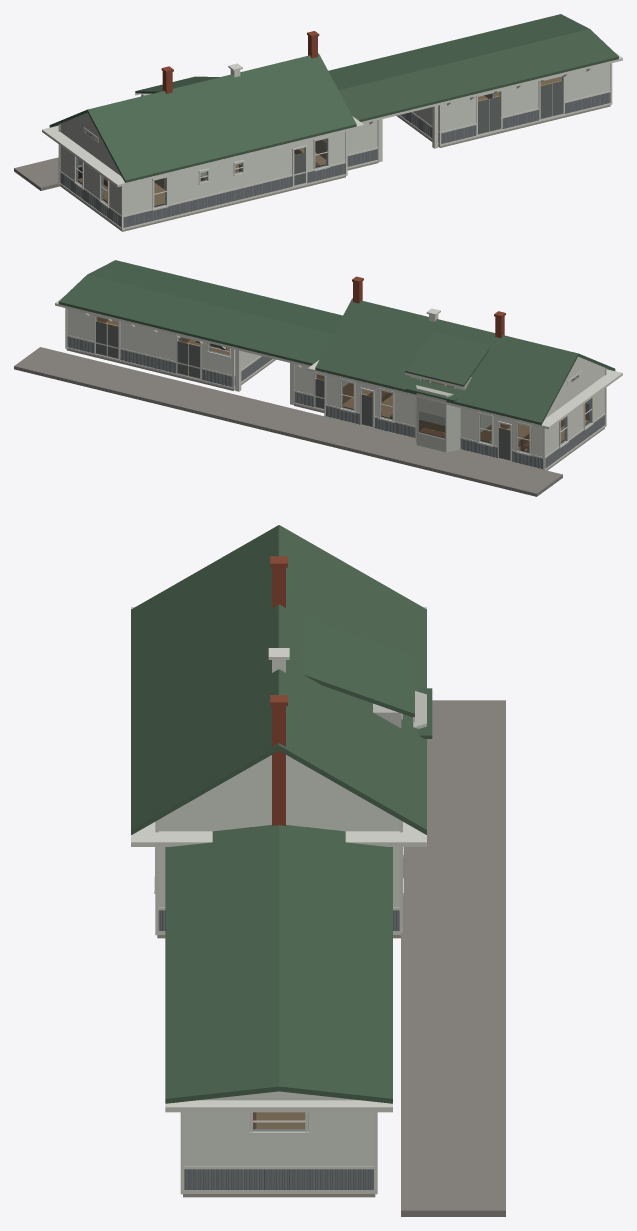
Rendered from Sparta_Depot.glb.
3 views of the same model, one above another, from view 1: azimuth 30°, elevation 25°; view 2: azimuth 150°, elevation 25°; view 3: azimuth 270°, elevation 25° (orthographic). The views are drawn at different scales.
Parts seen in each view (by area): view 1: roof, walls, trim, wainscot, doors, glass, foundation, sash, platform, floor, chimney, v_ceiling; view 2: roof, platform, walls, trim, wainscot, glass, doors, sash, v_ceiling, floor, foundation, chimney (+2 smaller); view 3: roof, platform, walls, trim, wainscot, chimney, glass.
Boxes of the visible parts, bbox=[...] form: roof: bbox=[49, 14, 618, 182]; walls: bbox=[60, 63, 610, 215]; trim: bbox=[42, 15, 622, 230]; wainscot: bbox=[60, 92, 610, 227]; doors: bbox=[87, 81, 563, 185]; glass: bbox=[76, 76, 562, 207]; foundation: bbox=[60, 105, 610, 231]; sash: bbox=[74, 135, 329, 210]; platform: bbox=[14, 157, 81, 190]; floor: bbox=[78, 76, 561, 205]; chimney: bbox=[161, 31, 319, 93]; v_ceiling: bbox=[78, 93, 494, 198]; roof: bbox=[58, 260, 615, 425]; platform: bbox=[14, 347, 562, 496]; walls: bbox=[67, 308, 604, 461]; trim: bbox=[55, 261, 622, 470]; wainscot: bbox=[67, 336, 604, 469]; glass: bbox=[96, 317, 591, 453]; doors: bbox=[96, 321, 578, 460]; sash: bbox=[207, 343, 593, 456]; v_ceiling: bbox=[97, 318, 589, 444]; floor: bbox=[105, 320, 588, 450]; foundation: bbox=[66, 349, 604, 470]; chimney: bbox=[352, 276, 505, 337]; roof: bbox=[131, 525, 432, 1103]; platform: bbox=[401, 700, 505, 1216]; walls: bbox=[158, 691, 426, 1165]; trim: bbox=[131, 607, 426, 1194]; wainscot: bbox=[158, 910, 399, 1190]; chimney: bbox=[270, 556, 287, 825]; glass: bbox=[253, 1112, 304, 1131].
Bounding box in the file's own units: 1.45 × 0.3153 × 0.4502.
